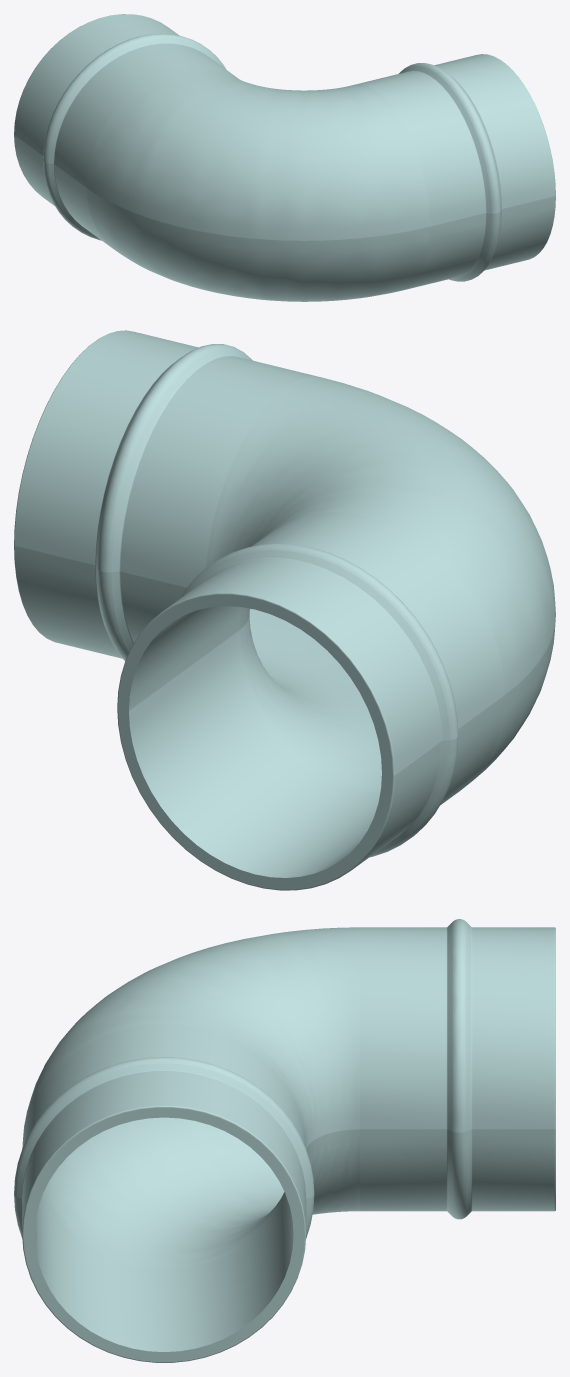
3 views of the same model, one above another, from view 1: azimuth 30°, elevation 25°; view 2: azimuth 150°, elevation 25°; view 3: azimuth 270°, elevation 25° (orthographic). The views are drawn at different scales.
Size of the model in its own units: 194 by 107 by 194.
